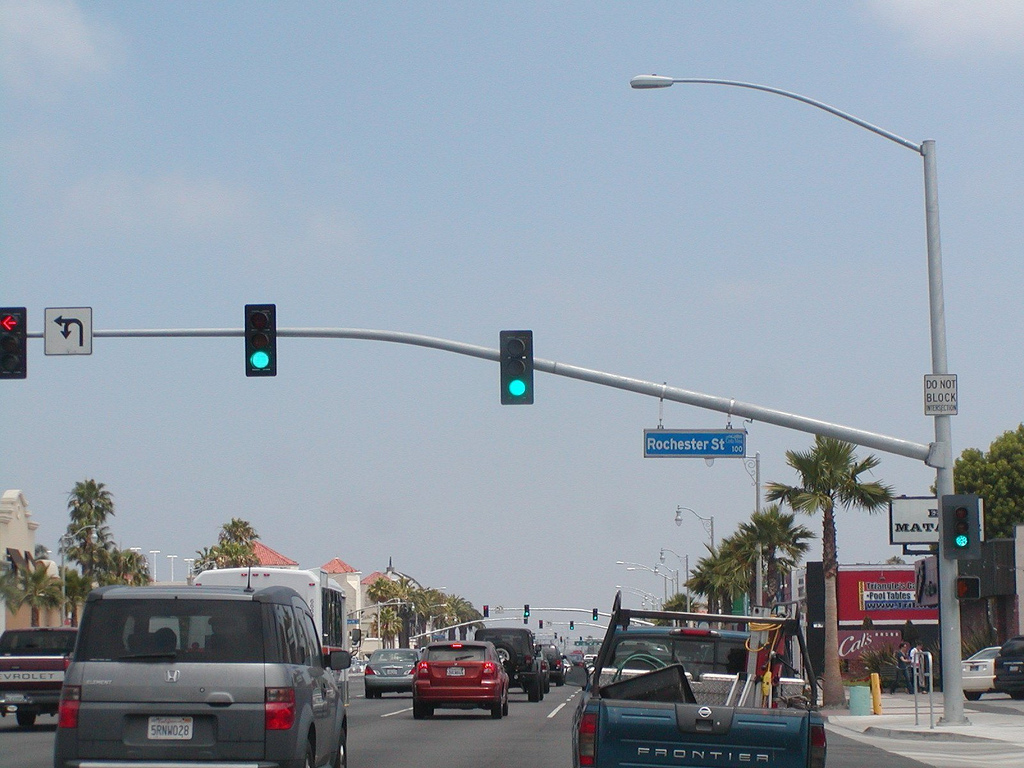traffic_light: (498, 329, 536, 407), (243, 303, 279, 378), (952, 504, 971, 552)
